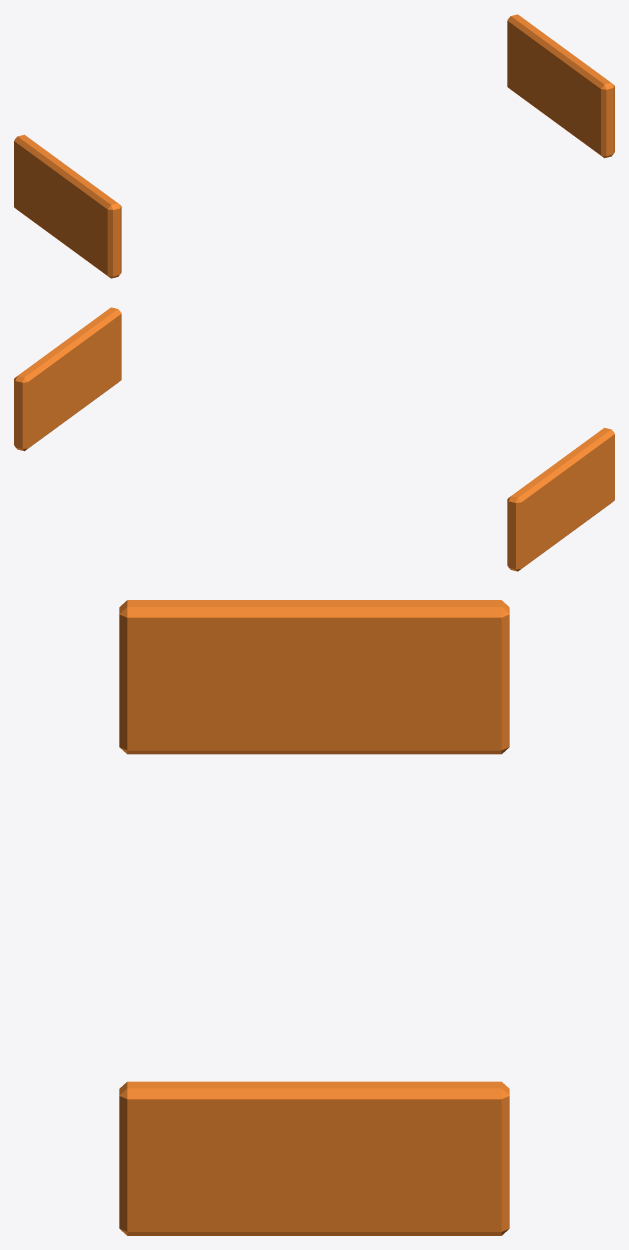
The model's file is cruise_winglets.glb.
The picture shows the model from 3 angles, top to bottom: view 1: azimuth 30°, elevation 25°; view 2: azimuth 150°, elevation 25°; view 3: azimuth 270°, elevation 25°; orthographic projection. The views are drawn at different scales.
Parts seen in each view (by area): view 1: winglet, winglet.001; view 2: winglet, winglet.001; view 3: winglet, winglet.001.
Boxes of the visible parts, x1=… form: winglet: x1=14, y1=134, x2=121, y2=278; winglet.001: x1=507, y1=14, x2=614, y2=158; winglet: x1=507, y1=427, x2=614, y2=571; winglet.001: x1=14, y1=307, x2=121, y2=451; winglet: x1=119, y1=600, x2=509, y2=754; winglet.001: x1=119, y1=1081, x2=509, y2=1235.
Size of the model in its own units: 2.88 by 0.4 by 0.96.
